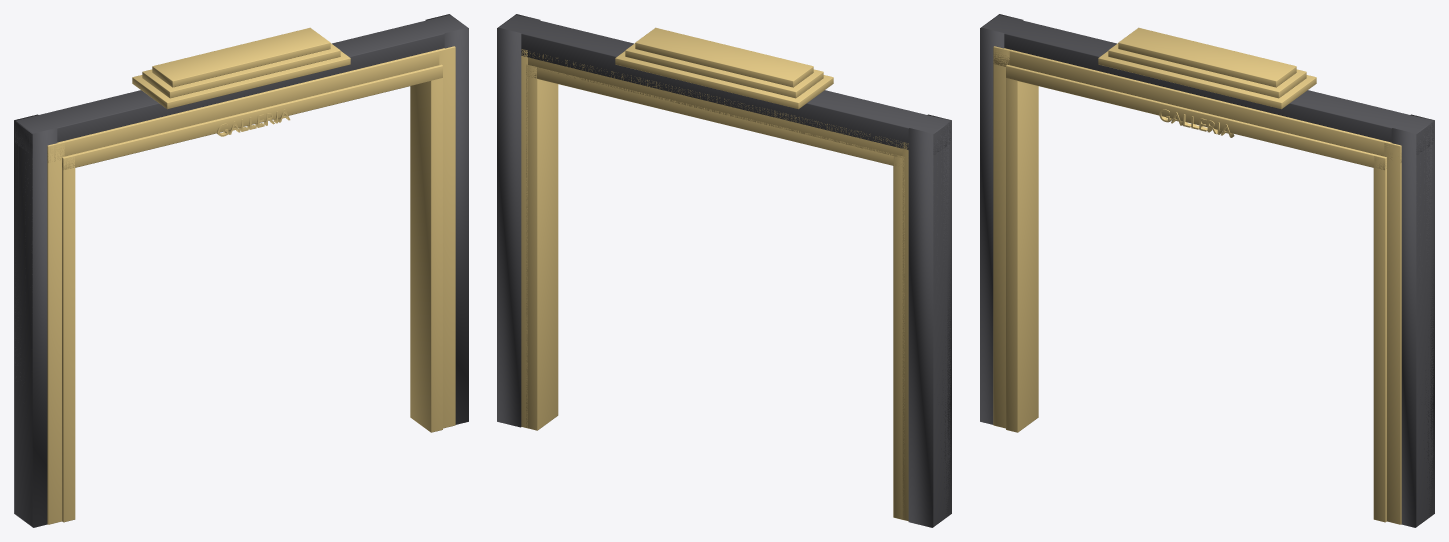
The model's file is portale_aperto.glb.
3 renders of one model, left to right at view 1: azimuth 30°, elevation 25°; view 2: azimuth 150°, elevation 25°; view 3: azimuth 330°, elevation 25°, orthographic.
Parts seen in each view (by area): view 1: spalla_2_1, traversa_0, COL_stipite_sx, spalla_0_-1, traversa_1, COL_stipite_dx, spalla_1_-1, traversa_2, spalla_2_-1, spalla_1_1, cg_corona_2, cg_corona_0 (+2 smaller); view 2: COL_stipite_sx, traversa_0, spalla_2_1, COL_stipite_dx, spalla_0_-1, cg_corona_2, traversa_2, traversa_1, spalla_2_-1, spalla_1_1, spalla_1_-1, cg_corona_0 (+1 smaller); view 3: spalla_2_-1, traversa_0, COL_stipite_dx, spalla_0_1, traversa_1, COL_stipite_sx, spalla_1_1, traversa_2, spalla_2_1, spalla_1_-1, cg_corona_2, cg_corona_0 (+2 smaller).
Part boxes in pixels (x1,y1,x2,y2): spalla_2_1: (410, 67, 442, 432); traversa_0: (15, 15, 466, 155); COL_stipite_sx: (14, 114, 57, 527); spalla_0_-1: (15, 122, 32, 526); traversa_1: (47, 46, 455, 162); COL_stipite_dx: (425, 14, 468, 424); spalla_1_-1: (47, 143, 64, 524); traversa_2: (62, 64, 442, 169); spalla_2_-1: (62, 155, 75, 522); spalla_1_1: (439, 47, 455, 428); cg_corona_2: (152, 27, 330, 87); cg_corona_0: (132, 51, 350, 109); COL_stipite_sx: (908, 114, 951, 527); traversa_0: (499, 15, 950, 154); spalla_2_1: (526, 64, 558, 430); COL_stipite_dx: (497, 14, 540, 427); spalla_0_-1: (933, 122, 950, 526); cg_corona_2: (635, 27, 813, 87); traversa_2: (526, 67, 901, 165); traversa_1: (528, 51, 908, 157); spalla_2_-1: (893, 154, 904, 519); spalla_1_1: (521, 49, 527, 428); spalla_1_-1: (902, 142, 908, 521); cg_corona_0: (615, 51, 833, 109); spalla_2_-1: (1006, 78, 1038, 432); traversa_0: (982, 15, 1433, 154); COL_stipite_dx: (1391, 114, 1434, 527); spalla_0_1: (1416, 122, 1433, 526); traversa_1: (993, 46, 1401, 162); COL_stipite_sx: (980, 14, 1023, 424); spalla_1_1: (1384, 143, 1401, 524); traversa_2: (1006, 64, 1386, 170); spalla_2_1: (1373, 156, 1386, 522); spalla_1_-1: (993, 47, 1009, 428); cg_corona_2: (1118, 27, 1296, 87); cg_corona_0: (1098, 51, 1316, 109).
Bounding box in the file's own units: 11 × 9.98 × 1.54.
